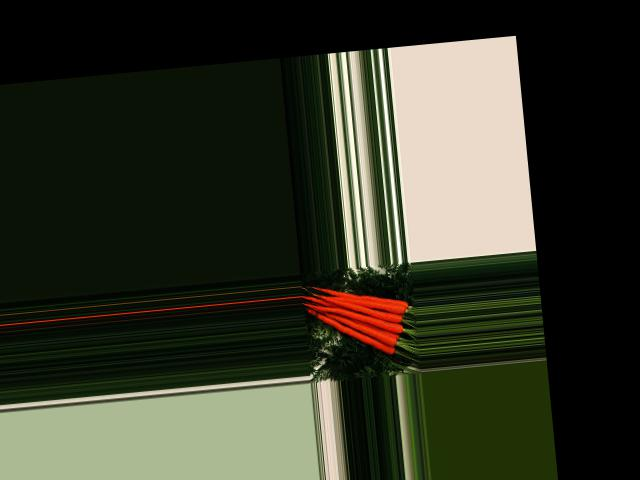carrot: (306, 273, 411, 323)
